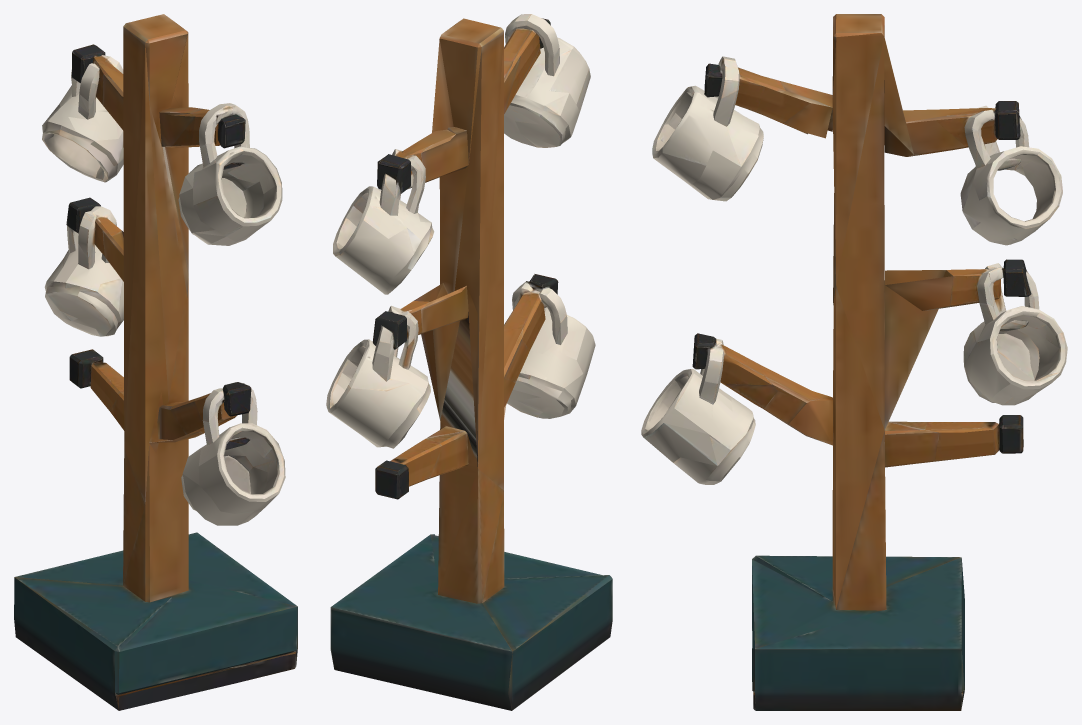
File: cupTree.glb
The picture shows the model from 3 angles, left to right: view 1: azimuth 30°, elevation 25°; view 2: azimuth 150°, elevation 25°; view 3: azimuth 270°, elevation 25°; orthographic projection. The views are drawn at different scales.
Visible parts, largest first — view 1: Mesh_0; view 2: Mesh_0; view 3: Mesh_0.
Part boxes in pixels (left/top/right/bottom): Mesh_0: left=14, top=14, right=297, bottom=710; Mesh_0: left=326, top=14, right=612, bottom=710; Mesh_0: left=641, top=14, right=1067, bottom=710.
Size of the model in its own units: 0.1529 by 0.5 by 0.3005.
Materials: 1 (1 with a texture image).
